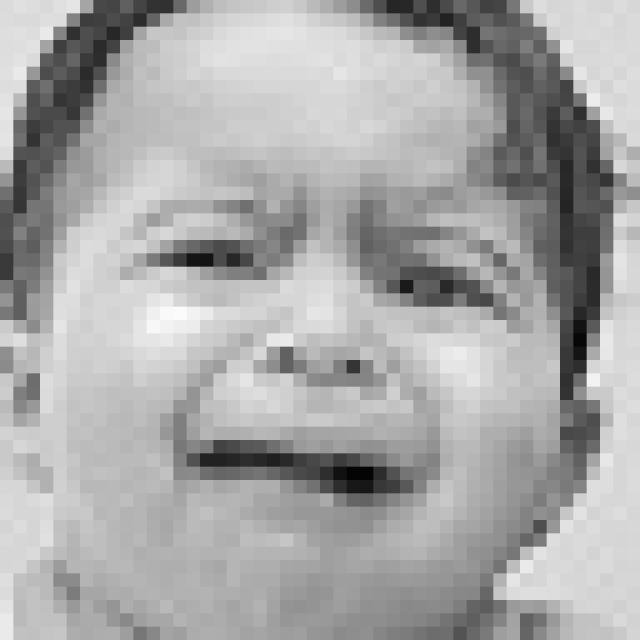sad: (110, 154, 528, 539)
